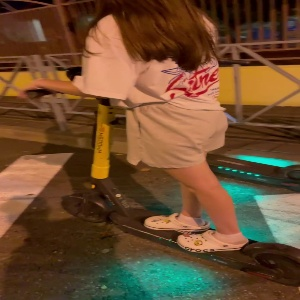human on a scooter: (21, 1, 300, 288)
